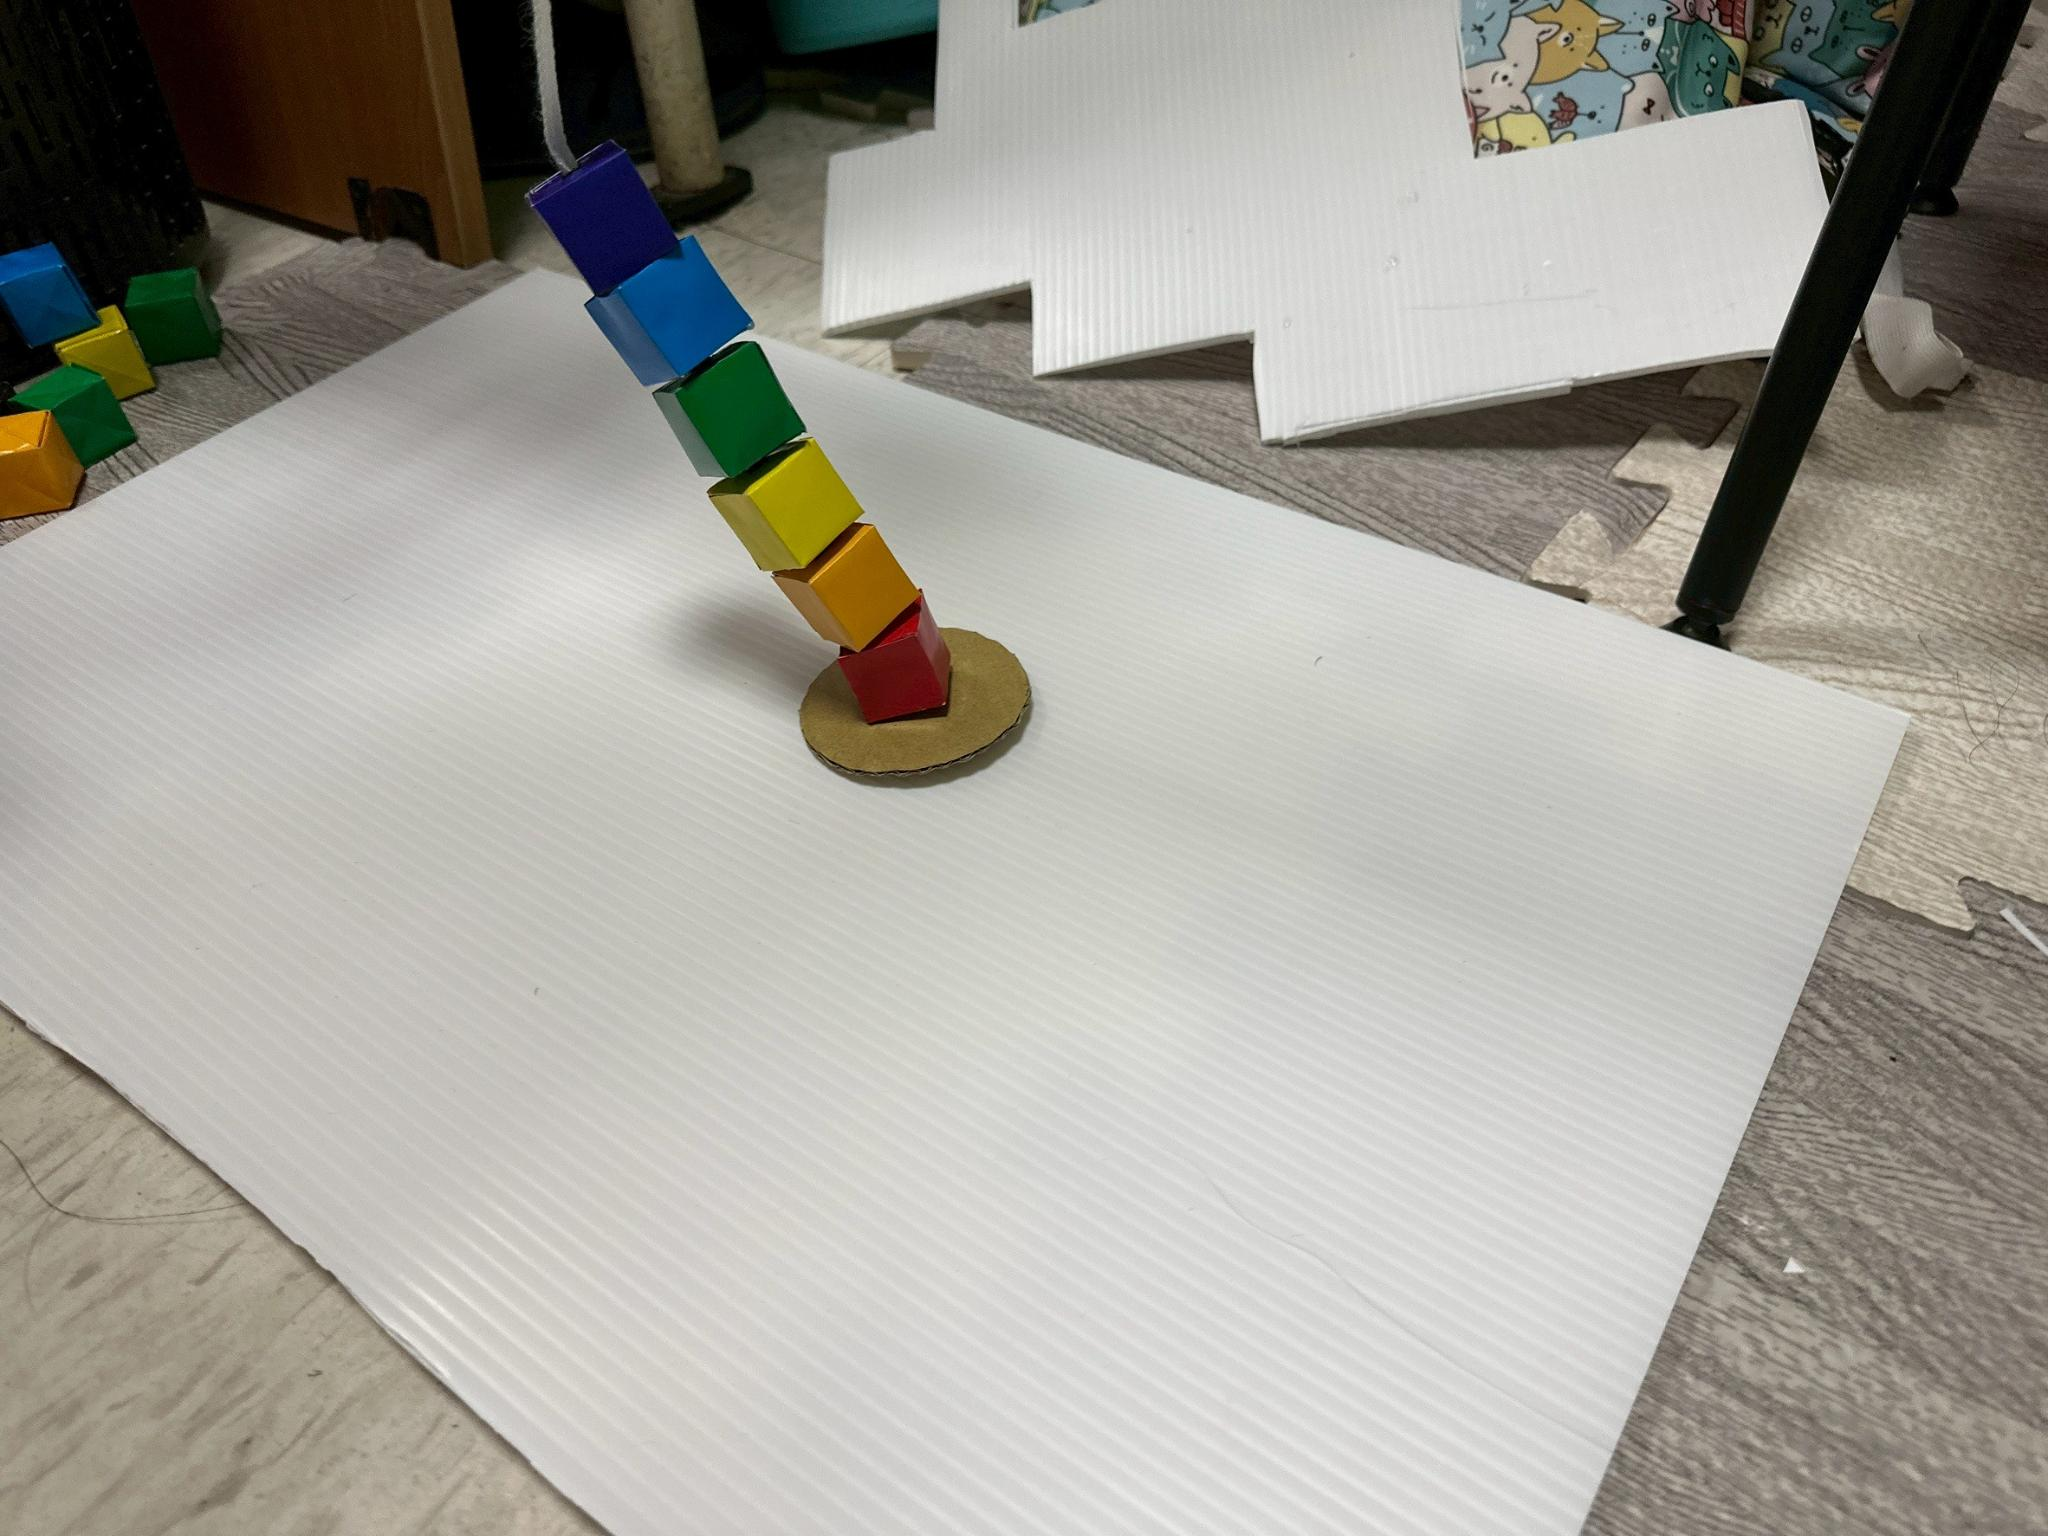base: (800, 629, 1030, 773)
cube: (587, 237, 751, 386), (531, 142, 672, 292), (651, 342, 805, 479), (710, 436, 863, 571), (771, 524, 919, 650), (837, 594, 948, 723), (13, 365, 135, 466), (0, 242, 97, 345), (121, 268, 219, 365), (55, 307, 155, 402), (0, 411, 84, 520)
